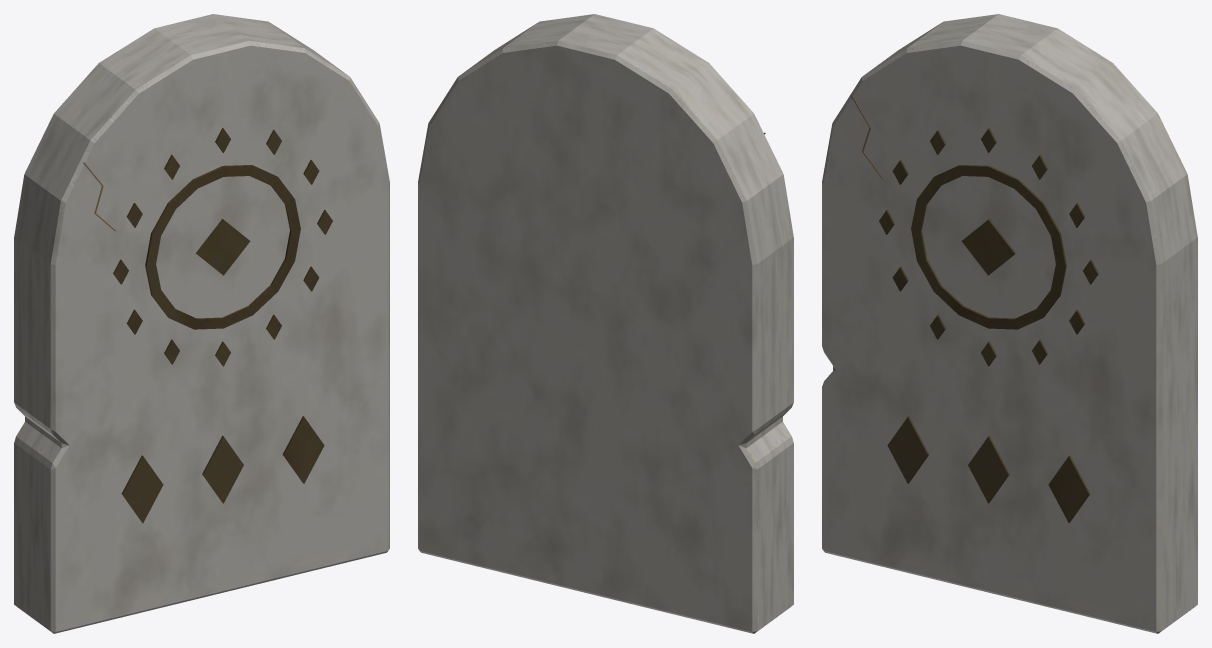
Rendered from P24_stone_tablets_v1.glb.
3 renders of one model, left to right at view 1: azimuth 30°, elevation 25°; view 2: azimuth 150°, elevation 25°; view 3: azimuth 330°, elevation 25°, orthographic.
Visible parts, largest first — view 1: Weathered stone tablet; view 2: Weathered stone tablet; view 3: Weathered stone tablet.
Boxes of the visible parts, box(x1,y1,x2,y2) form: Weathered stone tablet: box(14, 14, 389, 633); Weathered stone tablet: box(418, 14, 793, 633); Weathered stone tablet: box(822, 14, 1197, 633).
Bounding box in the file's own units: 0.3254 × 0.5 × 0.0695.
3 materials, 3 textured.
